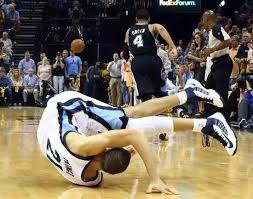10+: (4, 9, 252, 191)
down: (32, 80, 225, 192)
